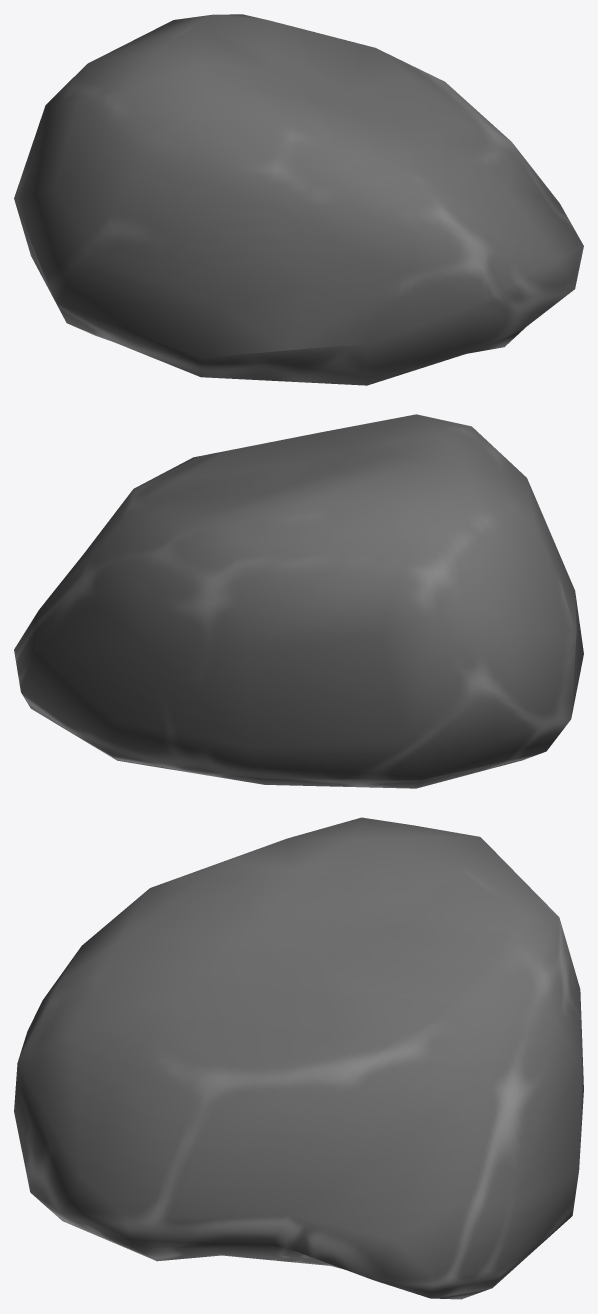
3 renders of one model, top to bottom at view 1: azimuth 30°, elevation 25°; view 2: azimuth 150°, elevation 25°; view 3: azimuth 270°, elevation 25°, orthographic. The views are drawn at different scales.
Parts seen in each view (by area): view 1: rock_3; view 2: rock_3; view 3: rock_3.
Part boxes in pixels (x1,y1,x2,y2): rock_3: (14,14,583,385); rock_3: (14,414,583,788); rock_3: (14,817,583,1299).
Size of the model in its own units: 187 by 94.68 by 168.
